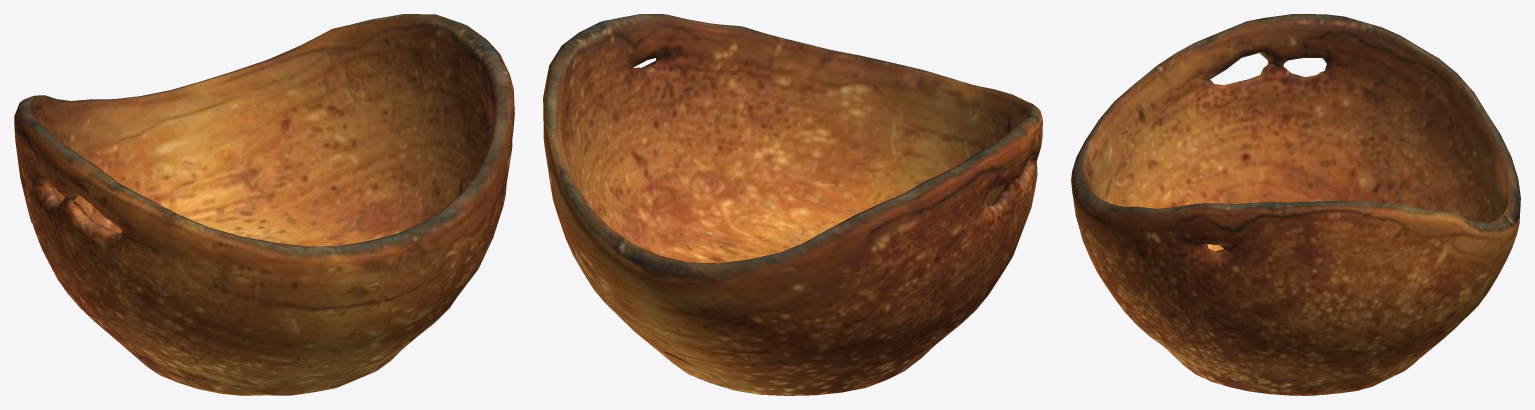
Rendered from wooden_bowl_02.glb.
The picture shows the model from 3 angles, left to right: view 1: azimuth 30°, elevation 25°; view 2: azimuth 150°, elevation 25°; view 3: azimuth 270°, elevation 25°; orthographic projection. The views are drawn at different scales.
Parts seen in each view (by area): view 1: wooden_bowl_02; view 2: wooden_bowl_02; view 3: wooden_bowl_02.
Boxes of the visible parts, bbox=[...] form: wooden_bowl_02: bbox=[14, 14, 514, 395]; wooden_bowl_02: bbox=[543, 14, 1042, 395]; wooden_bowl_02: bbox=[1071, 14, 1520, 395].
Size of the model in its own units: 0.1307 by 0.0731 by 0.1245.
1 material, 1 textured.
